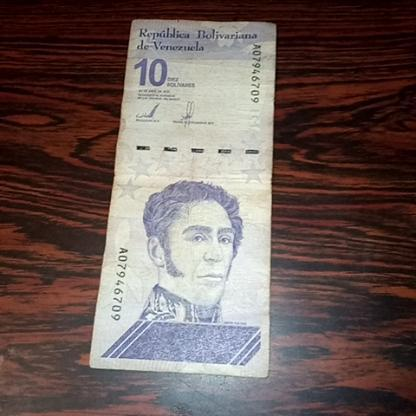ten-front-vef: (90, 18, 274, 384)
